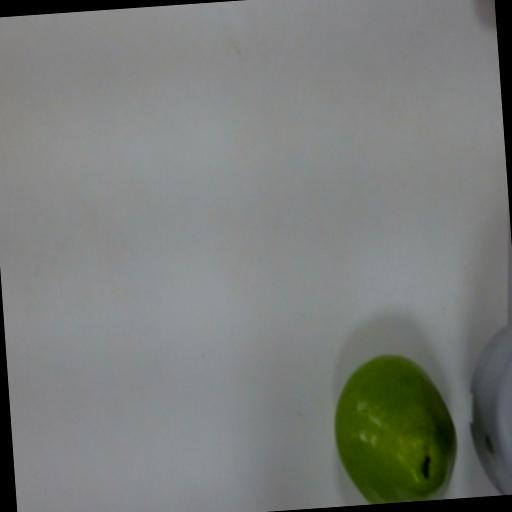Unripe: (321, 328, 466, 507)
